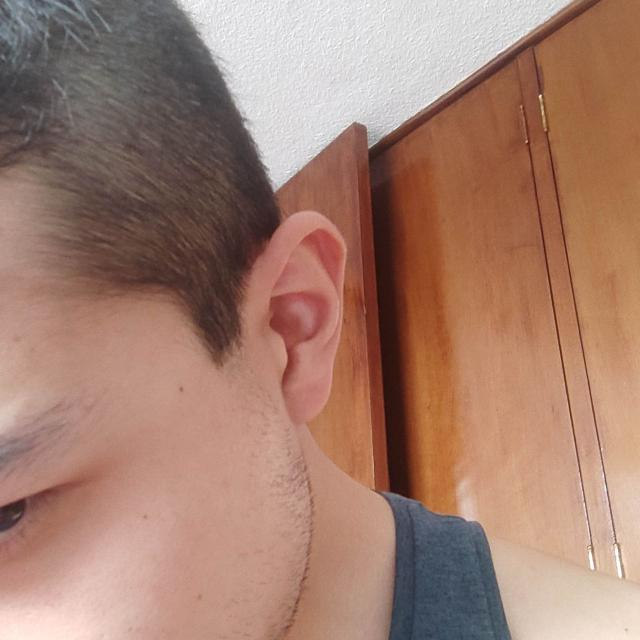ear: (252, 211, 346, 424)
